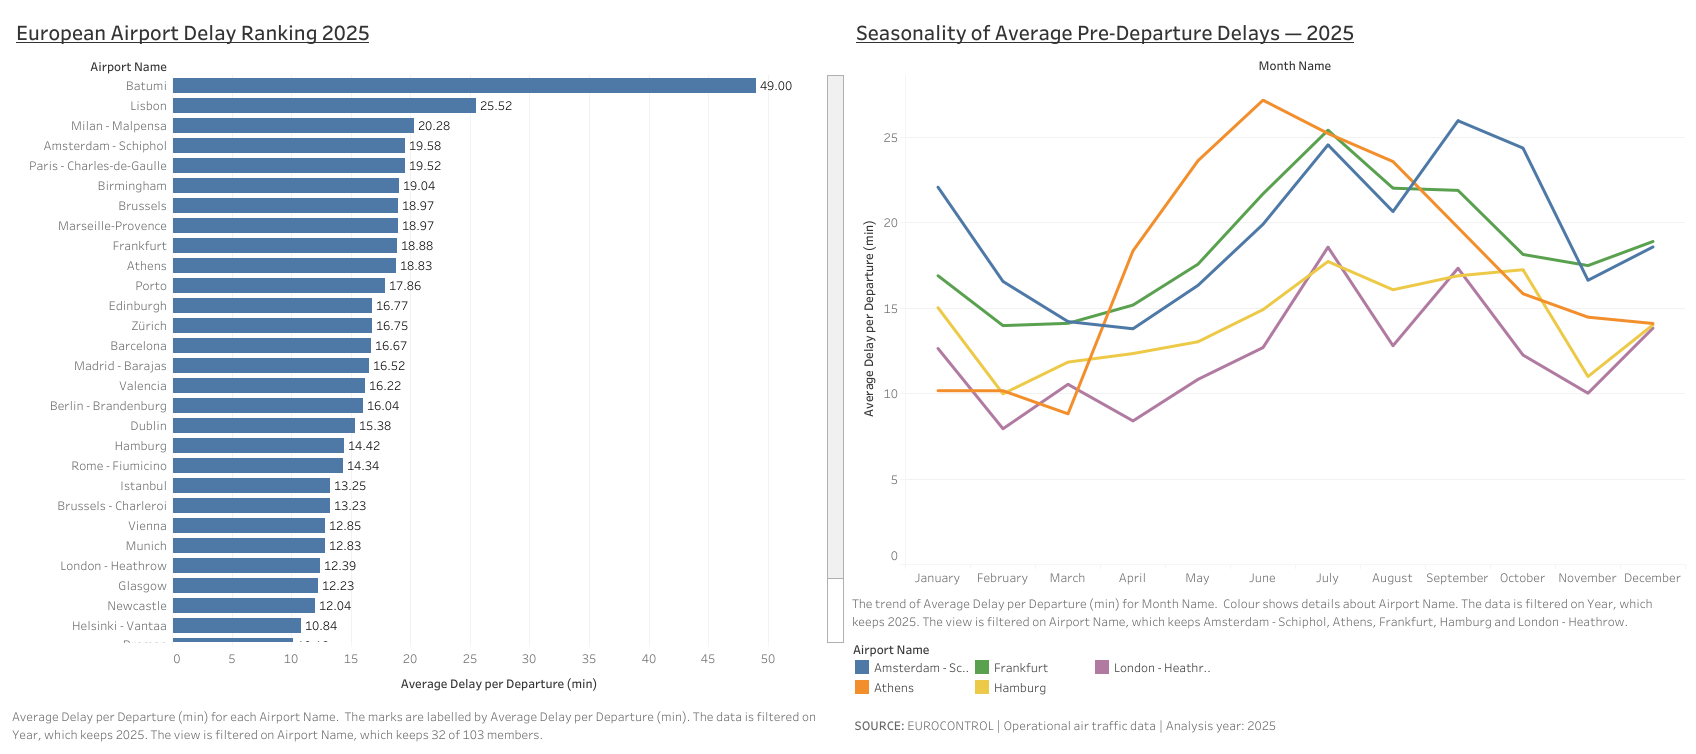

This screenshot's page, from the dashboard's own definition file:
{"tool":"tableau","page":{"name":"Airports","canvas":[1000,1000],"units":"permille","ordinal":0},"visuals":[{"type":"worksheet","title":"Airport Delay Ranking","mark":"Automatic","rows":["Airport_Name"],"cols":["Calculation_0014471219888132"],"box":[7.6,10.6,492.4,978.8]},{"type":"worksheet","title":"Delay Seasonality","mark":"Line","rows":["Calculation_0014471219888132"],"cols":["Month_Name"],"box":[500,10.6,492.4,828.9]},{"type":"legend","title":"Delay Seasonality","param":"[federated.1wbid6w07izr2o1ca0mst0lagpk4].[none:Airport_Name:nk]","box":[500,839.5,492.4,91.5]},{"type":"text","box":[500,931,492.4,58.4]}]}

Visuals, with their boxes on the dashboard's canvas, which has no fixed pixel size, in thousandths of its width and height (x1, y1, x2, y2). These are canvas units, not pixel positions in the 1696x754 screenshot, which may show the page scaled, cropped or inside an application window:
"Airport Delay Ranking" worksheet: crop(8, 11, 500, 989)
"Delay Seasonality" worksheet (Line marks): crop(500, 11, 992, 840)
"Delay Seasonality" legend: crop(500, 840, 992, 931)
text: crop(500, 931, 992, 989)
